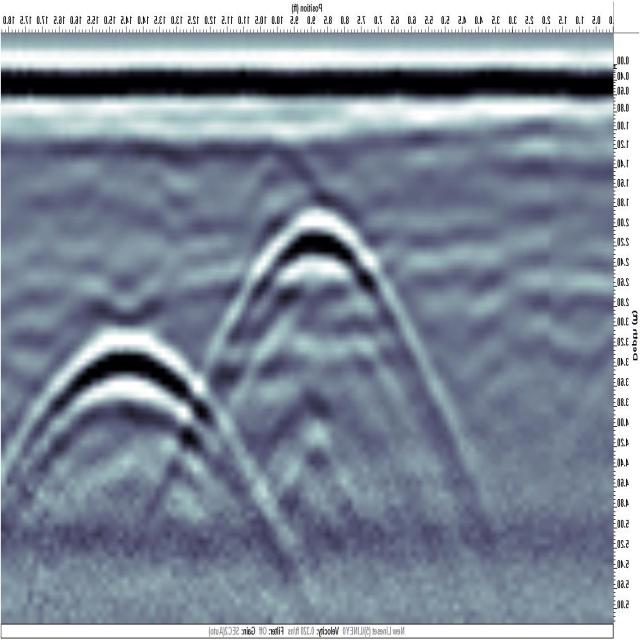hyperbola: (215, 182, 408, 357)
